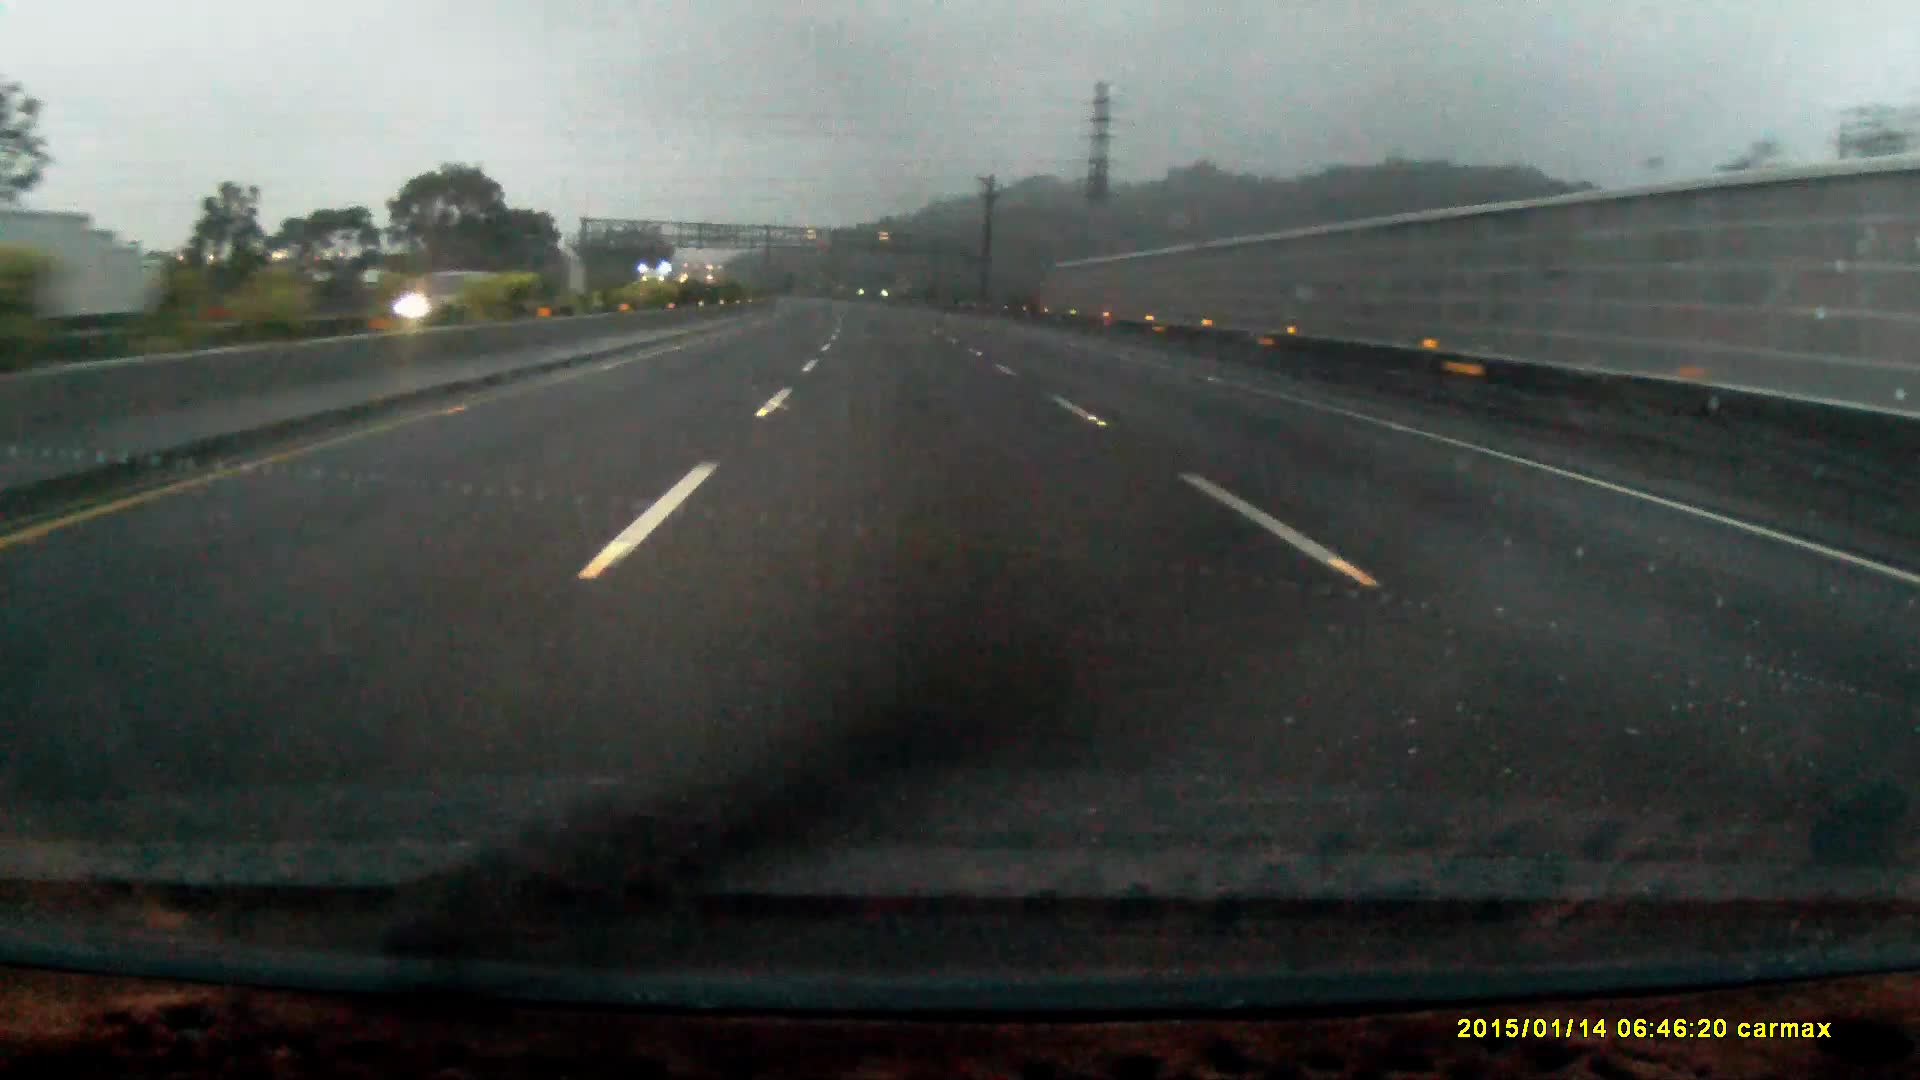vehicle: (378, 270, 473, 320), (641, 262, 686, 307)
